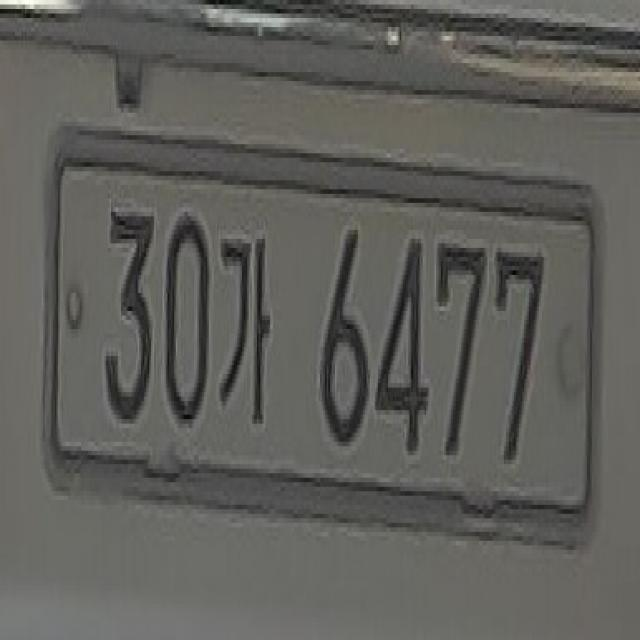0: (162, 203, 209, 428)
3: (106, 202, 153, 424)
4: (376, 234, 429, 460)
6: (318, 221, 370, 446)
7: (491, 243, 542, 469), (435, 239, 484, 455)
ga: (217, 230, 274, 437)
license_plate: (52, 122, 600, 550)
